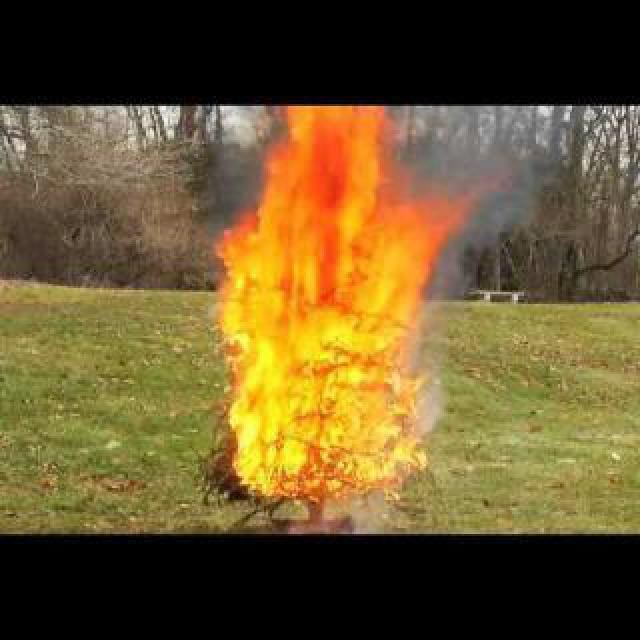Fire: (214, 124, 448, 498)
